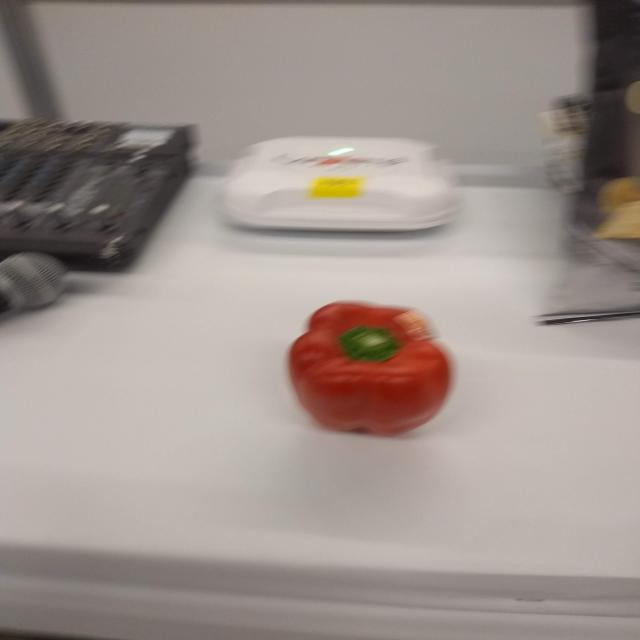paprika: (279, 302, 460, 440)
